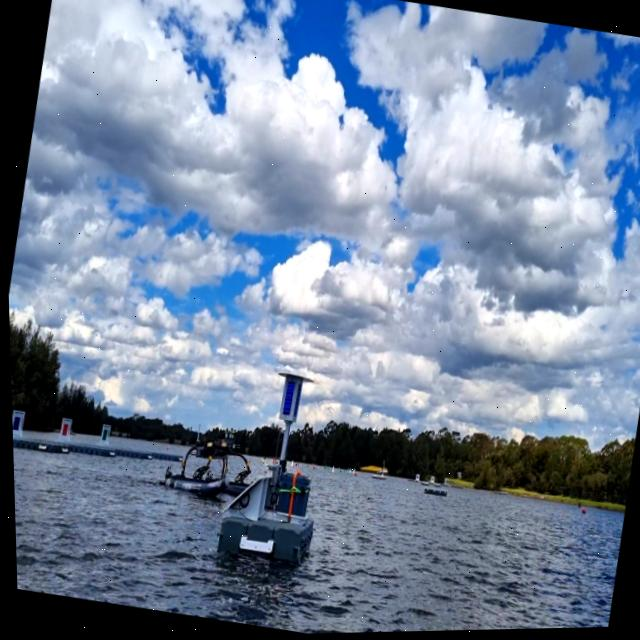led: (277, 379, 295, 419)
